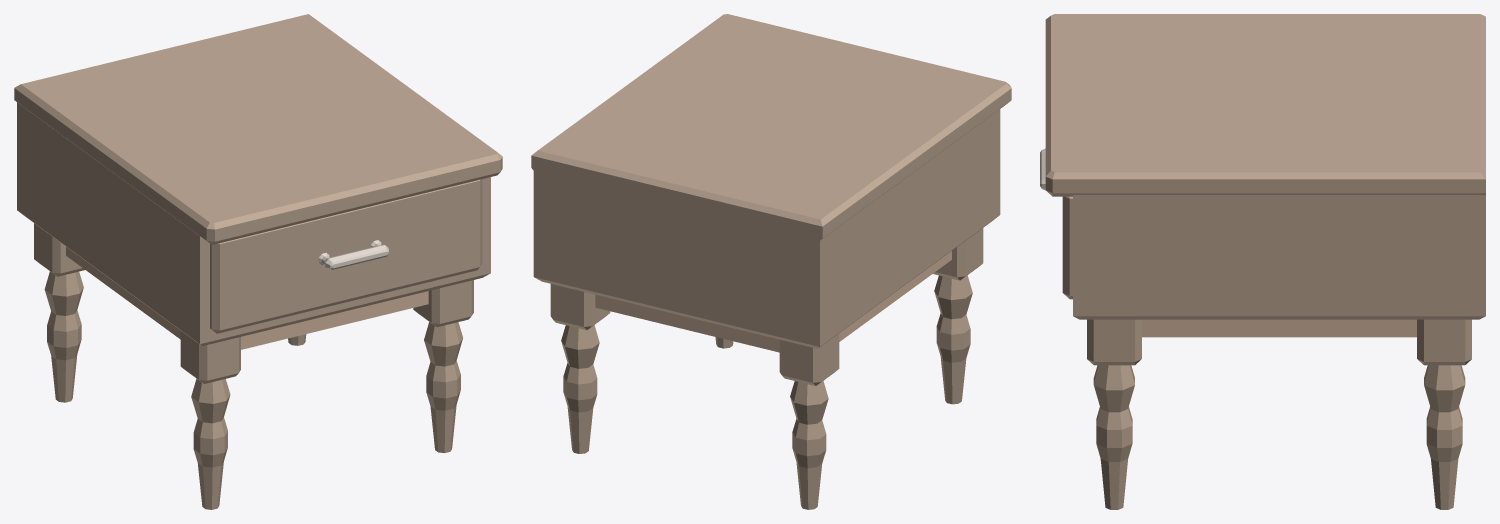
File: Prop_Living_Room_Side_Table.glb
3 views of the same model, side by side, from view 1: azimuth 30°, elevation 25°; view 2: azimuth 150°, elevation 25°; view 3: azimuth 270°, elevation 25° (orthographic). The views are drawn at different scales.
Parts seen in each view (by area): view 1: Prop_Living_Room_Side_Table; view 2: Prop_Living_Room_Side_Table; view 3: Prop_Living_Room_Side_Table.
Part boxes in pixels (x1,y1,x2,y2): Prop_Living_Room_Side_Table: [14, 14, 502, 509]; Prop_Living_Room_Side_Table: [531, 14, 1011, 509]; Prop_Living_Room_Side_Table: [1040, 14, 1485, 509].
Size of the model in its own units: 0.7 by 0.7 by 0.8101.
